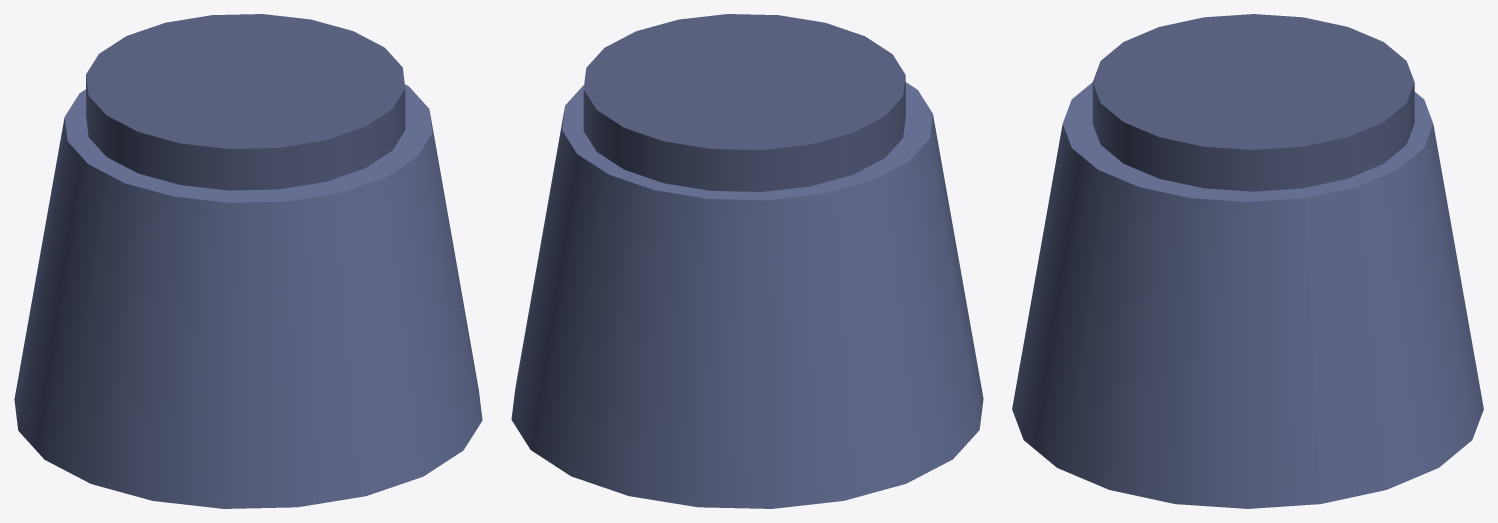
File: lamp.obj
The picture shows the model from 3 angles, left to right: view 1: azimuth 30°, elevation 25°; view 2: azimuth 150°, elevation 25°; view 3: azimuth 270°, elevation 25°; orthographic projection.
Parts seen in each view (by area): view 1: lamp:pCylinder4, lamp:pCylinder5; view 2: lamp:pCylinder4, lamp:pCylinder5; view 3: lamp:pCylinder4, lamp:pCylinder5.
Part boxes in pixels (box(x1,y1,x2,y2)): lamp:pCylinder4: box(14, 84, 482, 508); lamp:pCylinder5: box(86, 14, 405, 190); lamp:pCylinder4: box(511, 82, 983, 508); lamp:pCylinder5: box(583, 14, 905, 191); lamp:pCylinder4: box(1012, 82, 1483, 508); lamp:pCylinder5: box(1092, 14, 1414, 191).
Bounding box in the file's own units: 0.0737 × 0.0564 × 0.0737.
2 materials, 2 textured.
